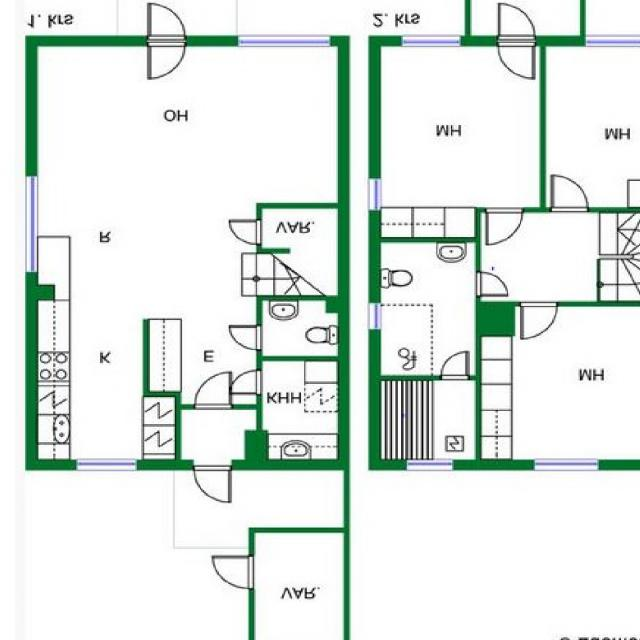door: (193, 460, 232, 504), (148, 3, 185, 46), (148, 36, 185, 78), (498, 35, 534, 78), (498, 4, 534, 46), (195, 372, 232, 410), (551, 175, 588, 212), (212, 556, 253, 588), (486, 208, 522, 244), (521, 302, 557, 338), (228, 219, 261, 244), (230, 326, 262, 350), (230, 370, 262, 394), (476, 272, 507, 296), (441, 352, 468, 379)
